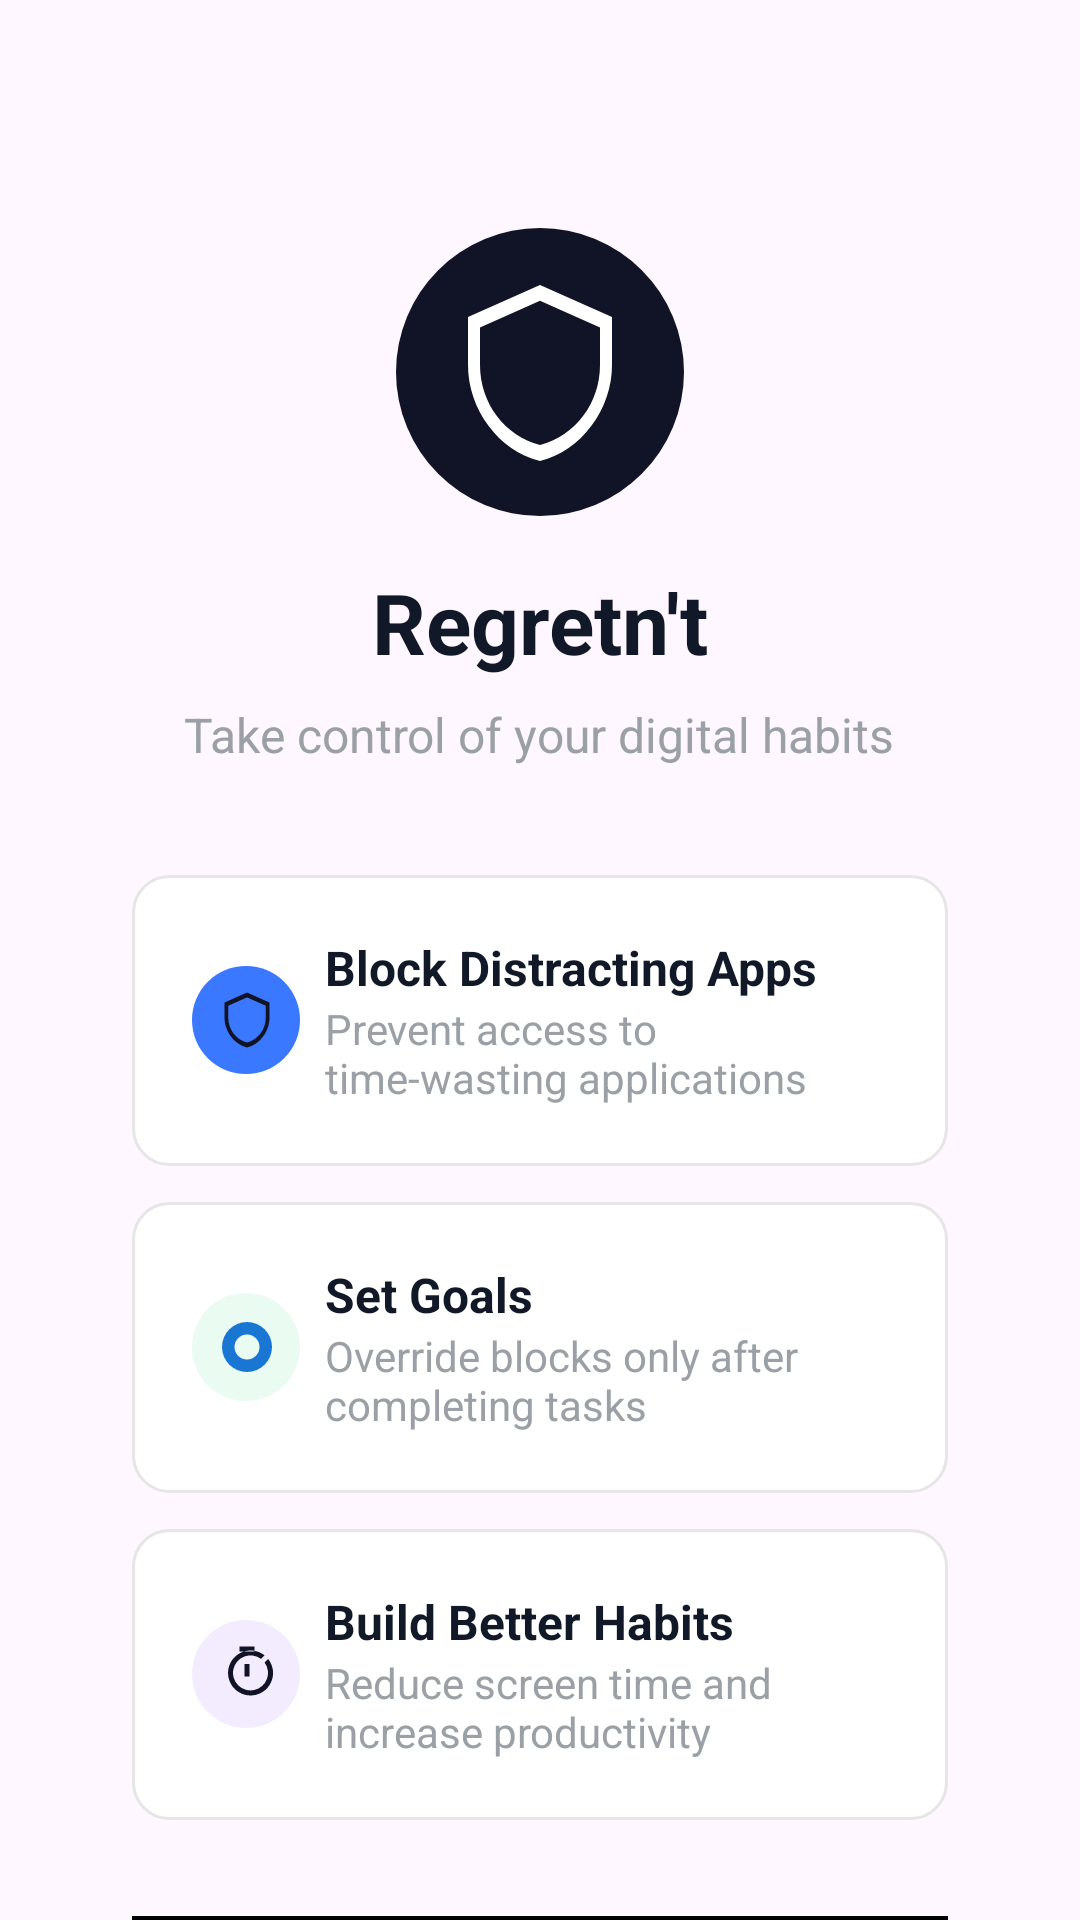

Icon bounding boxes for this 1080×1920 phone screenshot, format Rect(x1, y1, x2, y2):
shield: Rect(468, 285, 612, 461), Rect(224, 992, 270, 1048)
target: Rect(222, 1322, 272, 1372)
timer: Rect(228, 1646, 273, 1696)
